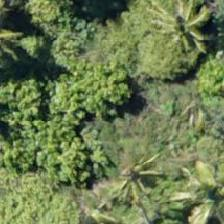coconut_tree: (77, 139, 167, 223), (174, 145, 223, 223)
